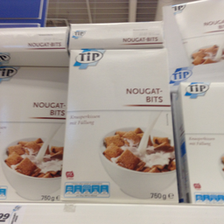cereal: (60, 48, 181, 202), (1, 65, 69, 201)
